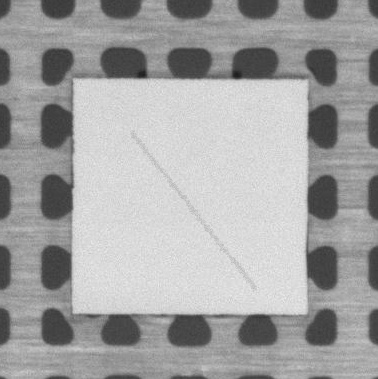DIE_CRACK: (132, 133, 254, 289)
